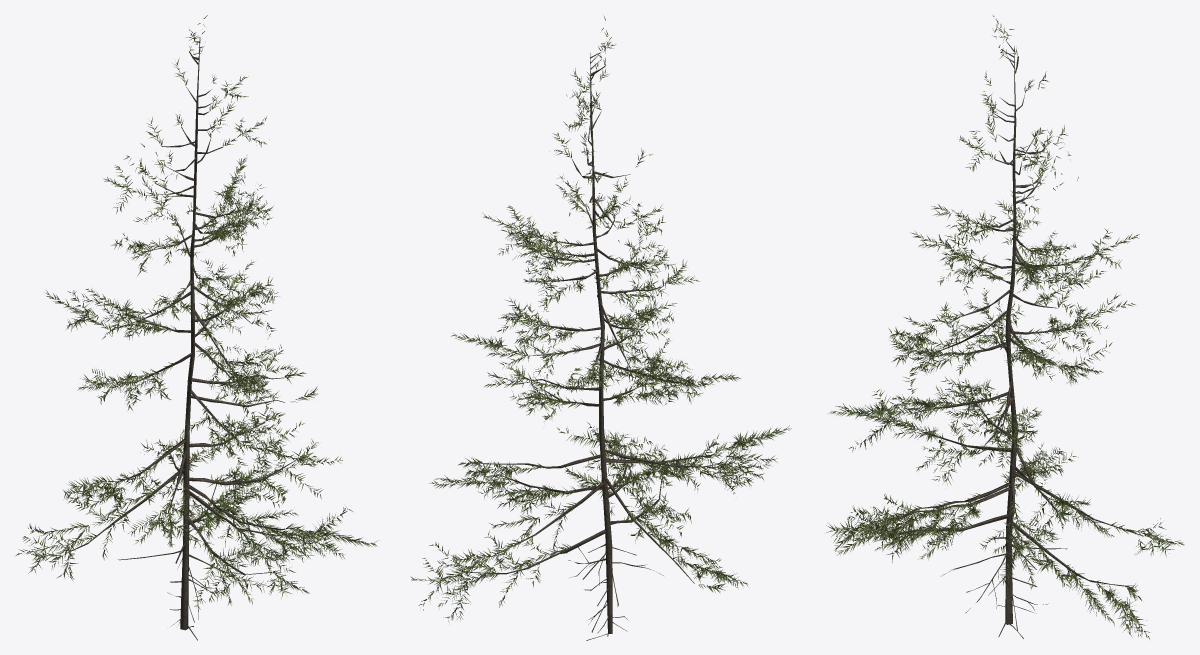
Rendered from fir_medium_b_lodmid.gltf.
3 views of the same model, side by side, from view 1: azimuth 30°, elevation 25°; view 2: azimuth 150°, elevation 25°; view 3: azimuth 270°, elevation 25° (orthographic).
Parts seen in each view (by area): view 1: fir_sapling_medium_b_LOD0.002, fir_sapling_medium_b_LOD0.001, fir_sapling_medium_b_LOD0; view 2: fir_sapling_medium_b_LOD0.002, fir_sapling_medium_b_LOD0.001, fir_sapling_medium_b_LOD0; view 3: fir_sapling_medium_b_LOD0.002, fir_sapling_medium_b_LOD0.001, fir_sapling_medium_b_LOD0.
Part boxes in pixels (x1=…): fir_sapling_medium_b_LOD0.002: x1=15, y1=15, x2=377, y2=609; fir_sapling_medium_b_LOD0.001: x1=66, y1=37, x2=296, y2=630; fir_sapling_medium_b_LOD0: x1=118, y1=539, x2=270, y2=640; fir_sapling_medium_b_LOD0.002: x1=410, y1=16, x2=791, y2=622; fir_sapling_medium_b_LOD0.001: x1=464, y1=51, x2=717, y2=633; fir_sapling_medium_b_LOD0: x1=568, y1=544, x2=663, y2=640; fir_sapling_medium_b_LOD0.002: x1=826, y1=15, x2=1184, y2=639; fir_sapling_medium_b_LOD0.001: x1=873, y1=41, x2=1143, y2=624; fir_sapling_medium_b_LOD0: x1=941, y1=535, x2=1067, y2=638.
Size of the model in its own units: 4.01 by 7.47 by 3.91.
Materials: 3 (3 with a texture image).
